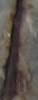Exposed reinforcement: (1, 1, 24, 100)
